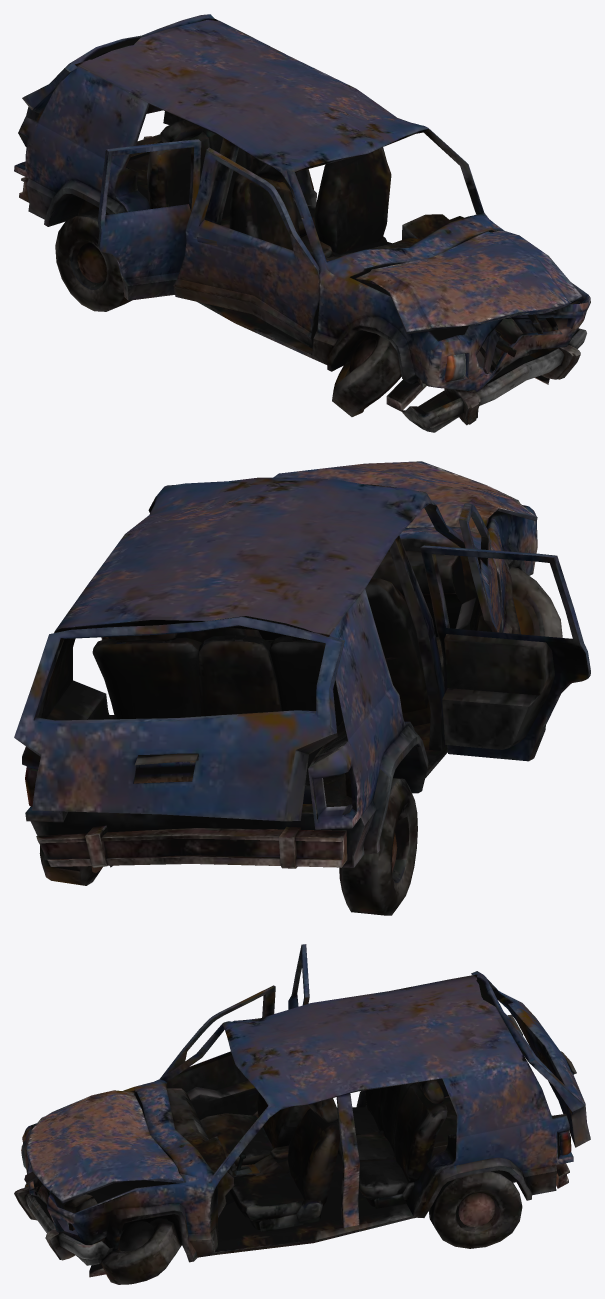
The model's file is crashed_abandoned_car.glb.
3 renders of one model, top to bottom at view 1: azimuth 30°, elevation 25°; view 2: azimuth 150°, elevation 25°; view 3: azimuth 270°, elevation 25°, orthographic. The views are drawn at different scales.
Parts seen in each view (by area): view 1: Object_6, Object_4, Object_10, Object_12, Object_8, Object_18, Object_16, Object_14; view 2: Object_6, Object_14, Object_12, Object_4, Object_18, Object_10, Object_16, Object_20; view 3: Object_6, Object_4, Object_20, Object_10, Object_14, Object_22, Object_8, Object_12.
Boxes of the visible parts, x1,y1,x2,y2 form: Object_6: (14, 19, 590, 411); Object_4: (355, 230, 582, 334); Object_10: (173, 147, 319, 348); Object_12: (97, 139, 201, 300); Object_8: (400, 328, 586, 432); Object_18: (55, 208, 131, 311); Object_16: (332, 333, 401, 416); Object_14: (18, 14, 214, 147); Object_6: (22, 477, 537, 868); Object_14: (14, 616, 344, 821); Object_12: (420, 545, 590, 761); Object_4: (273, 461, 537, 533); Object_18: (339, 778, 417, 915); Object_10: (455, 503, 502, 632); Object_16: (509, 566, 562, 637); Object_20: (39, 845, 102, 885); Object_6: (21, 974, 573, 1277); Object_4: (26, 1090, 184, 1203); Object_20: (428, 1170, 522, 1248); Object_10: (160, 985, 275, 1119); Object_14: (471, 971, 590, 1147); Object_22: (101, 1218, 181, 1284); Object_8: (14, 1183, 113, 1265); Object_12: (288, 944, 309, 1009).
Bounding box in the file's own units: 5.14 × 2.92 × 7.64.
1 material, 1 textured.
